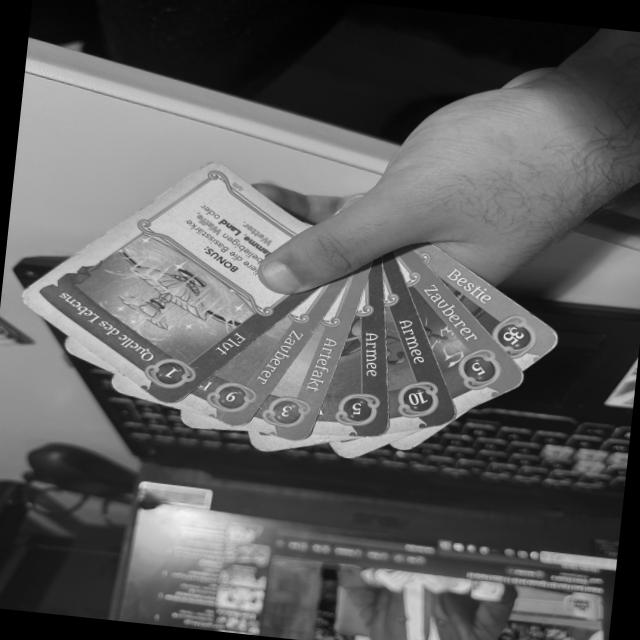Basilisk: (13, 158, 322, 407), (406, 240, 565, 371)
Beast Master: (178, 271, 354, 430)
Book Of Changes: (249, 259, 375, 443)
Elemental Enchantress: (392, 245, 527, 414)
Elven Archers: (379, 249, 460, 432)
Rangers: (311, 253, 388, 436)
